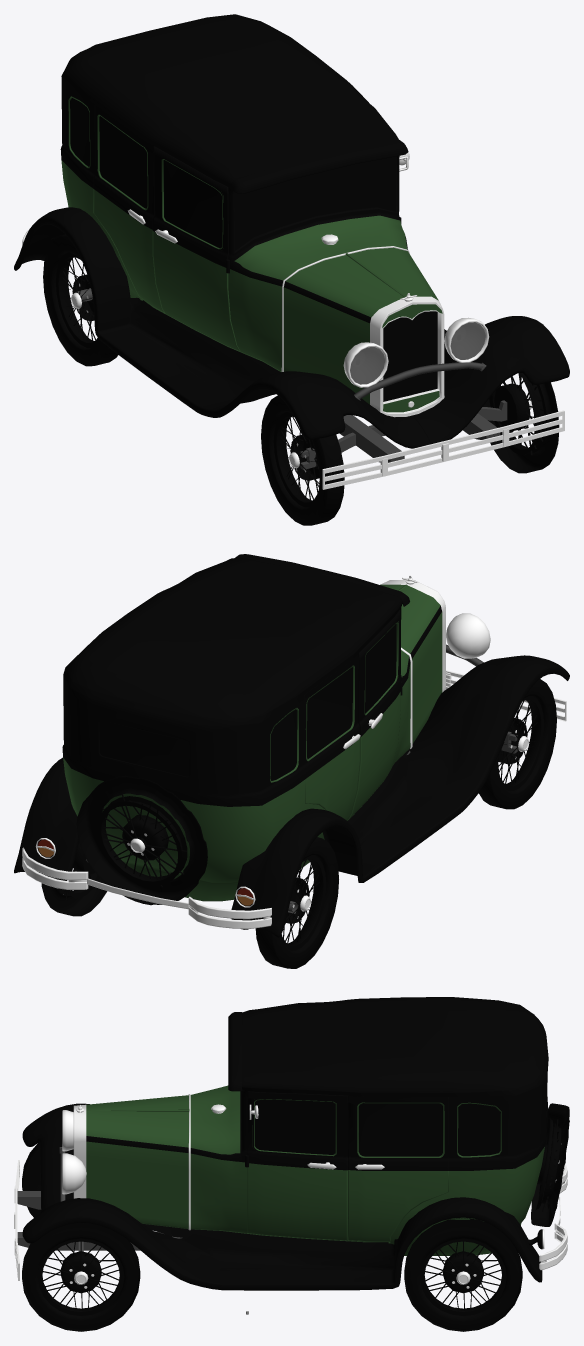
Rendered from Model A Ford.fbx.
3 renders of one model, top to bottom at view 1: azimuth 30°, elevation 25°; view 2: azimuth 150°, elevation 25°; view 3: azimuth 270°, elevation 25°, orthographic. The views are drawn at different scales.
Visible parts, largest first — view 1: Cube.018; view 2: Cube.018; view 3: Cube.018.
Boxes of the visible parts, left/top/right/bottom form: Cube.018: left=14, top=14, right=569, bottom=525; Cube.018: left=14, top=554, right=569, bottom=968; Cube.018: left=14, top=997, right=569, bottom=1331.
Size of the model in its own units: 182 by 210 by 377.
